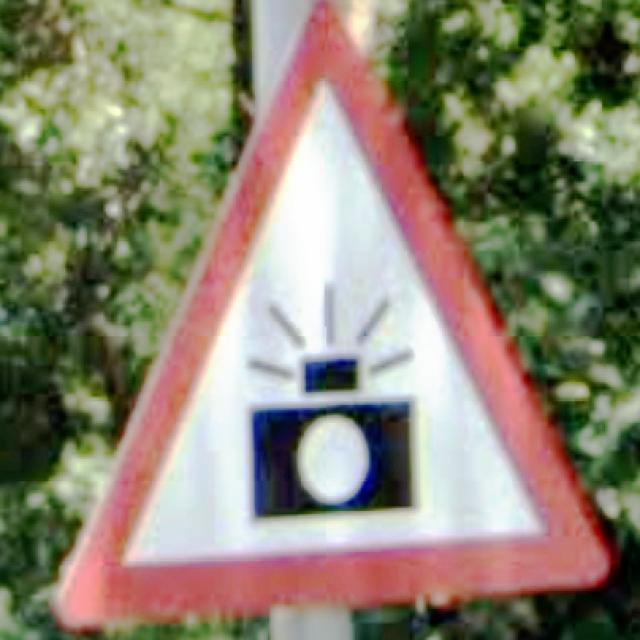speedcamera: (60, 3, 606, 625)
